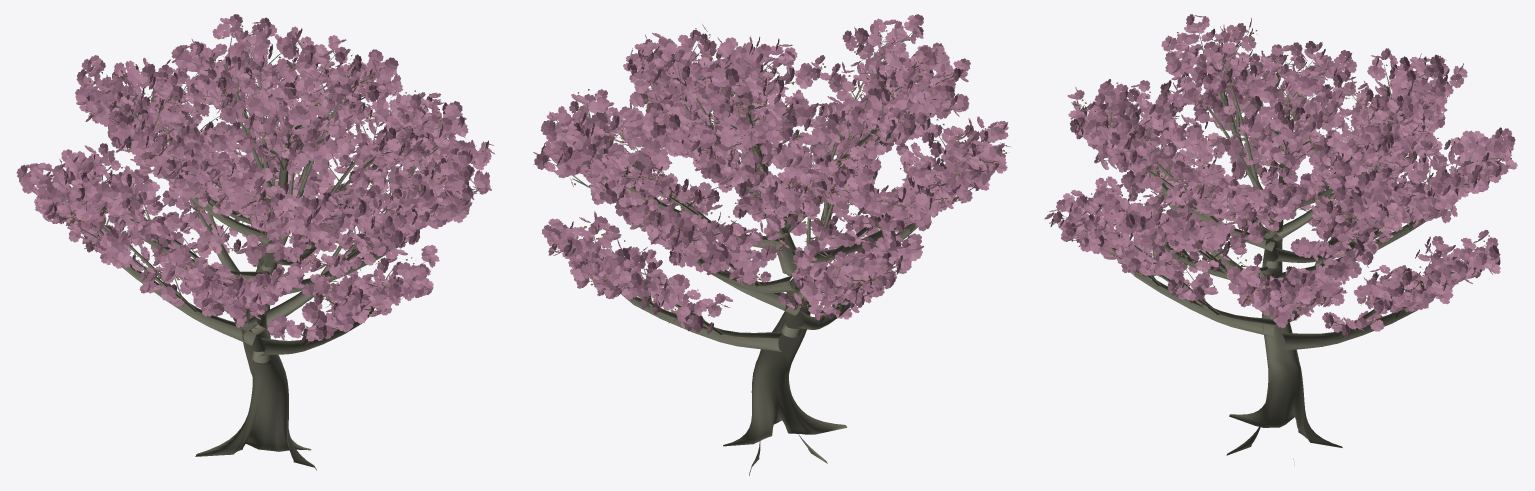
The picture shows the model from 3 angles, left to right: view 1: azimuth 30°, elevation 25°; view 2: azimuth 150°, elevation 25°; view 3: azimuth 270°, elevation 25°; orthographic projection. The views are drawn at different scales.
Parts seen in each view (by area): view 1: leaves, branches; view 2: leaves, branches; view 3: leaves, branches.
Boxes of the visible parts, box(x1,y1,x2,y2) form: leaves: box(16, 14, 494, 342); branches: box(29, 31, 481, 470); leaves: box(533, 14, 1010, 333); branches: box(547, 30, 991, 475); leaves: box(1044, 14, 1517, 338); branches: box(1053, 26, 1500, 466).
Size of the model in its own units: 9.15 by 8.11 by 9.28.
